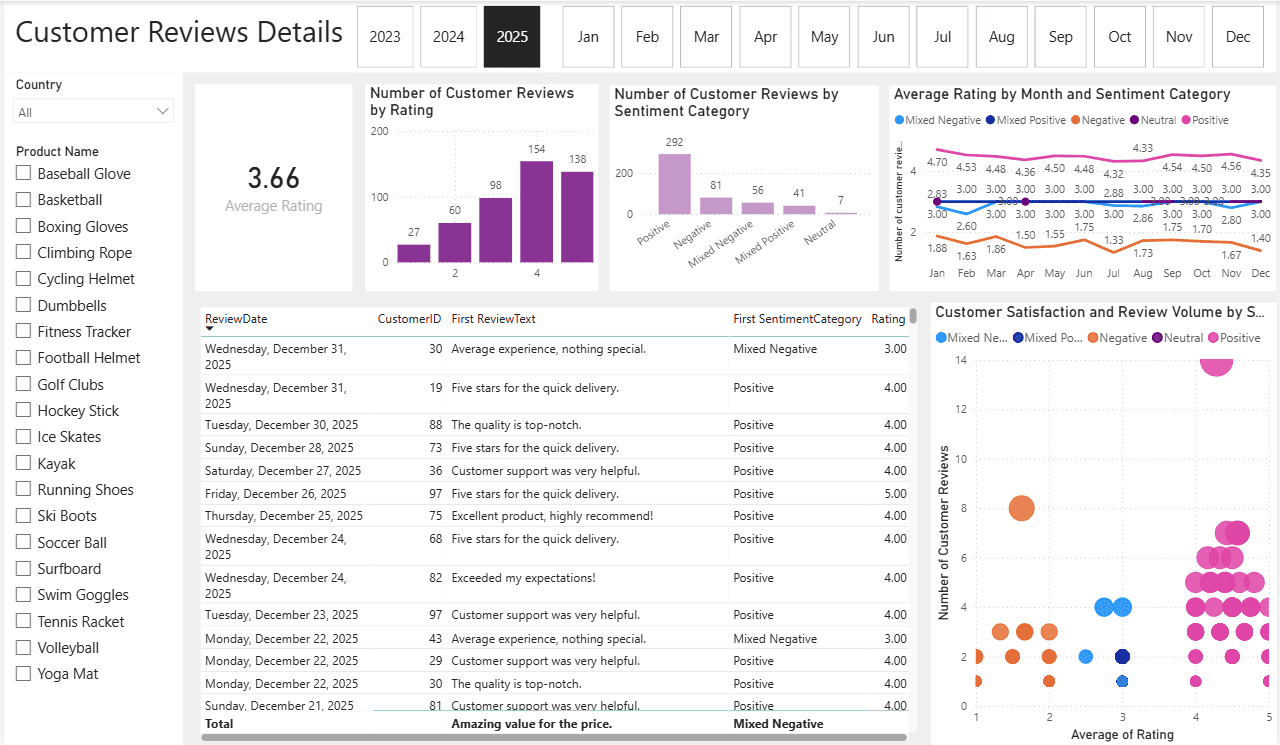

The page's visual inventory and layout, read from the dashboard file:
{"tool":"powerbi","page":{"name":"Customer Reviews Details","canvas":[1400,820],"ordinal":3},"visuals":[{"type":"textbox","box":[0,0,1400.3,78.7],"z":0},{"type":"slicer","fields":{"Values":["dim_product.ProductName"]},"box":[0,151.4,197.1,668.6],"z":1000},{"type":"advancedSlicerVisual","fields":{"Values":["Date.Year"]},"box":[382.9,0,212.9,78.6],"z":2000},{"type":"advancedSlicerVisual","fields":{"Values":["Date.MonthNameShort"]},"box":[610,0,790,78.6],"z":3000},{"type":"cardVisual","fields":{"Data":["_mesures.Average Rating"]},"box":[210.3,91.5,173.1,227.4],"z":4000},{"type":"clusteredColumnChart","title":"Number of Customer Reviews by Rating","fields":{"Category":["fact_customer_reviews.Rating"],"Y":["CountNonNull(fact_customer_reviews.CustomerID)"]},"box":[397.3,91.1,256,227.4],"z":5000},{"type":"clusteredColumnChart","title":"Number of Customer Reviews by Sentiment Category ","fields":{"Category":["fact_customer_reviews_with_sentiment.SentimentCategory"],"Y":["CountNonNull(fact_customer_reviews_with_sentiment.CustomerID)"]},"box":[666.2,92.5,296.1,226],"z":6000},{"type":"lineChart","title":"Average Rating by Month and Sentiment Category","fields":{"Category":["Date.MonthNameShort"],"Series":["fact_customer_reviews_with_sentiment.SentimentCategory"],"Y":["Avg(fact_customer_reviews_with_sentiment.Rating)"]},"box":[973.7,92.5,426.2,226],"z":7000},{"type":"tableEx","fields":{"Values":["fact_customer_reviews_with_sentiment.ReviewDate","fact_customer_reviews_with_sentiment.CustomerID","Min(fact_customer_reviews_with_sentiment.ReviewText)","Min(fact_customer_reviews_with_sentiment.SentimentCategory)","fact_customer_reviews_with_sentiment.Rating"]},"box":[210.3,331.8,799.6,487.8],"z":8000},{"type":"scatterChart","title":"Customer Satisfaction and Review Volume by Sentiment","fields":{"Category":["dim_customer.CustomerID"],"Y":["_mesures.Number of Customer Reviews"],"X":["Avg(fact_customer_reviews_with_sentiment.Rating)"],"Series":["fact_customer_reviews_with_sentiment.SentimentCategory"],"Size":["_mesures.Number of Customer Reviews"]},"box":[1019.8,331.8,380.5,487.8],"z":9000},{"type":"slicer","fields":{"Values":["dim_customer.Country"]},"box":[0,78.6,197.1,72.9],"z":10000}]}

Visuals, with their boxes in screenshot pixels (x1, y1, x2, y2), scaled from the page's 1400x820 canvas onto the 1280x745 screenshot:
textbox: box=[0, 0, 1279, 72]
slicer - dim_product.ProductName: box=[0, 138, 180, 744]
advancedSlicerVisual - Date.Year: box=[350, 0, 545, 71]
advancedSlicerVisual - Date.MonthNameShort: box=[558, 0, 1279, 71]
cardVisual - _mesures.Average Rating: box=[192, 83, 351, 290]
"Number of Customer Reviews by Rating" clusteredColumnChart: box=[363, 83, 597, 289]
"Number of Customer Reviews by Sentiment Category " clusteredColumnChart: box=[609, 84, 880, 289]
"Average Rating by Month and Sentiment Category" lineChart: box=[890, 84, 1279, 289]
tableEx - fact_customer_reviews_with_sentiment.ReviewDate x fact_customer_reviews_with_sentiment.CustomerID: box=[192, 301, 923, 744]
"Customer Satisfaction and Review Volume by Sentiment" scatterChart: box=[932, 301, 1279, 744]
slicer - dim_customer.Country: box=[0, 71, 180, 138]
